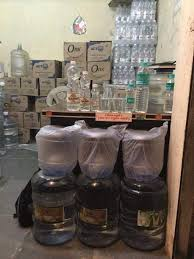Bisleri: (133, 64, 154, 118), (138, 75, 150, 87), (166, 85, 175, 90)
